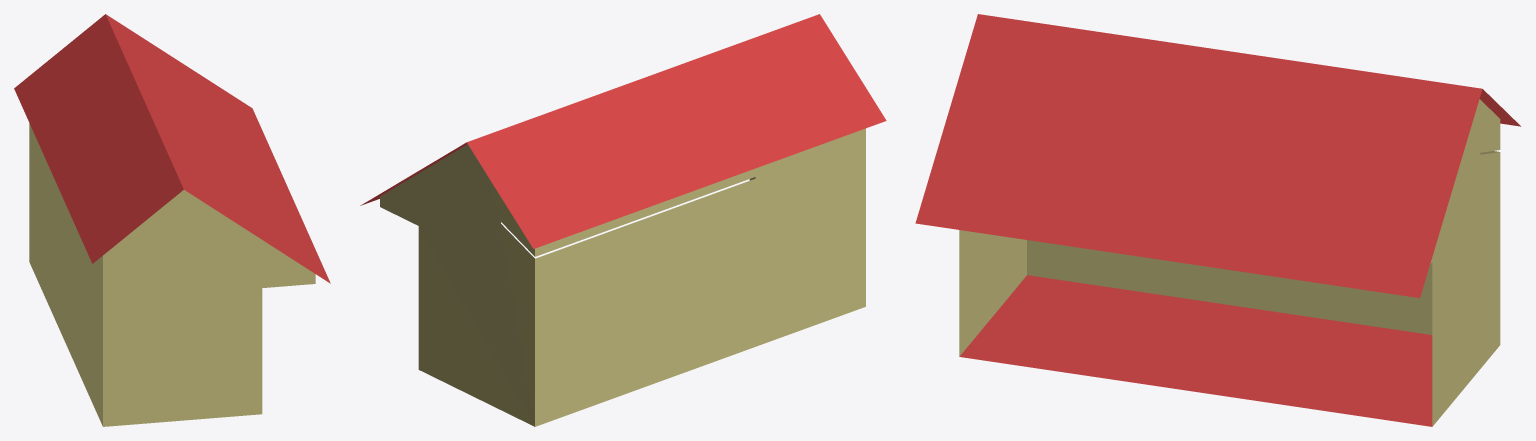
The picture shows the model from 3 angles, left to right: view 1: azimuth 30°, elevation 25°; view 2: azimuth 150°, elevation 25°; view 3: azimuth 270°, elevation 25°; orthographic projection. The views are drawn at different scales.
Bounding box in the file's own units: 20.92 × 27.19 × 14.8.
